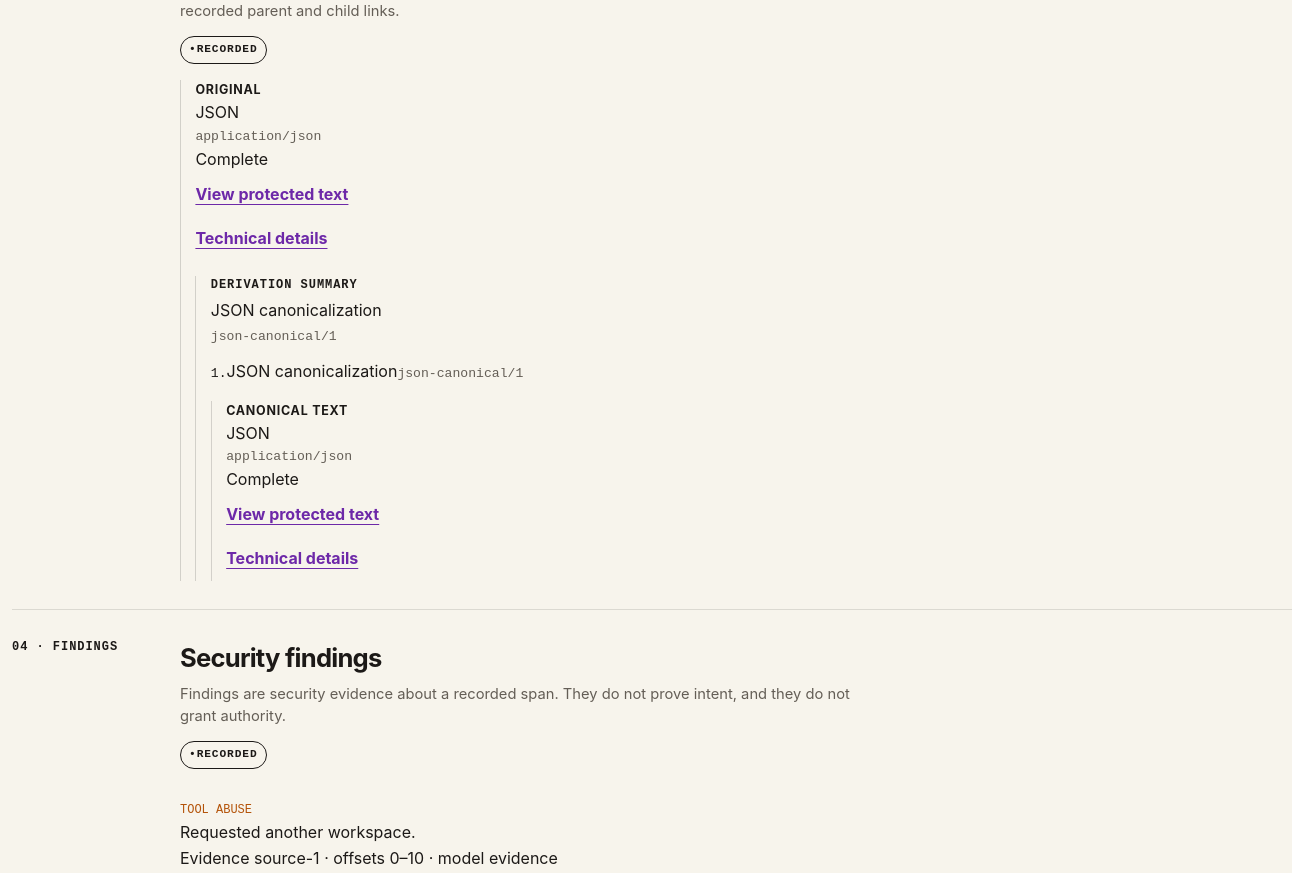
Test: run evidence › shows an original and its derived child with one JSON step
The width and height of the screenshot is (1292, 873).
(page scrolled)
Expected: the text "Original" is shown, top-left (195, 82), bottom-right (261, 97)
Expected: the text "Canonical text" is shown, top-left (226, 403), bottom-right (348, 418)
Click the button "Technical details" below "Canonical text".
click(292, 559)  # box top-left (226, 537), bottom-right (358, 581)
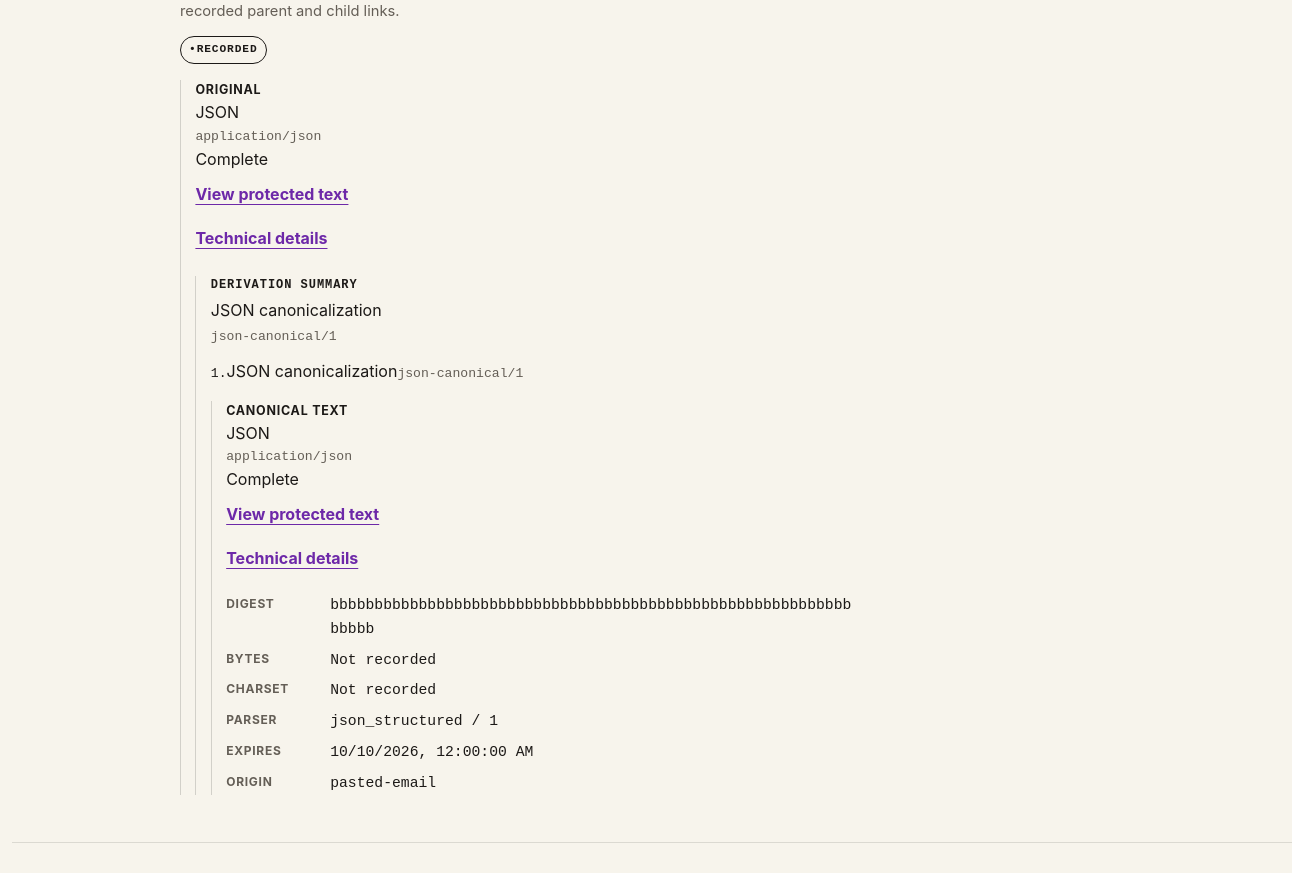
Expected: the text "json_structured / 1" is shown, top-left (330, 713), bottom-right (498, 729)
